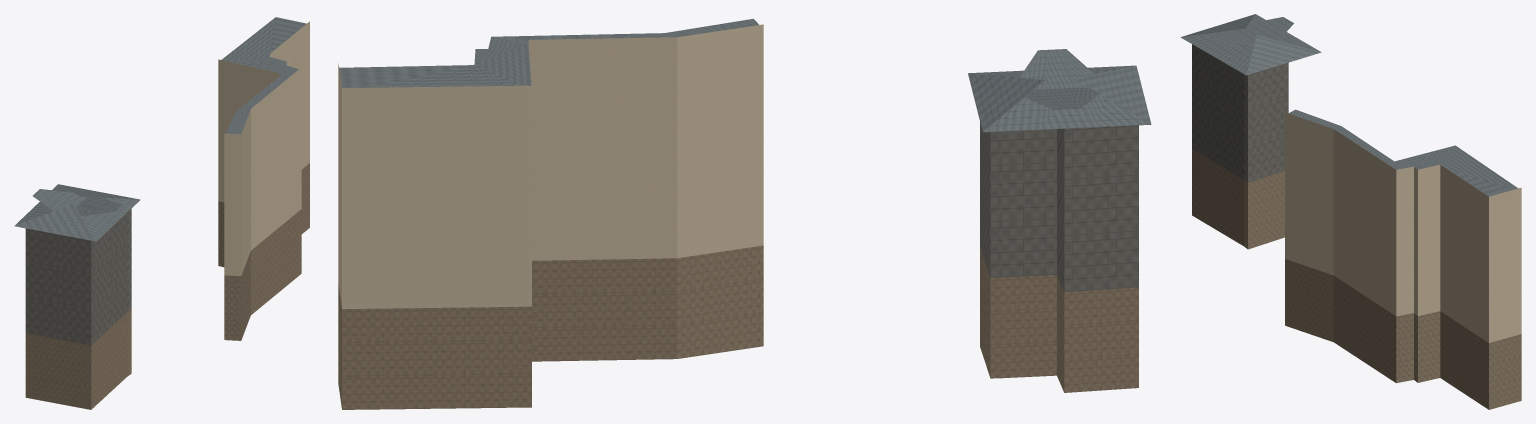
The model's file is bld_c-3_-4_568.gltf.
3 views of the same model, side by side, from view 1: azimuth 30°, elevation 25°; view 2: azimuth 150°, elevation 25°; view 3: azimuth 270°, elevation 25° (orthographic). The views are drawn at different scales.
Visible parts, largest first — view 1: bld_c-3_-4_568; view 2: bld_c-3_-4_568; view 3: bld_c-3_-4_568.
Boxes of the visible parts, x1=… form: bld_c-3_-4_568: x1=14, y1=17, x2=309, y2=409; bld_c-3_-4_568: x1=338, y1=18, x2=1151, y2=409; bld_c-3_-4_568: x1=1180, y1=14, x2=1521, y2=409.
Bounding box in the file's own units: 33.72 × 16.28 × 23.63.
Materials: 5 (5 with a texture image).
